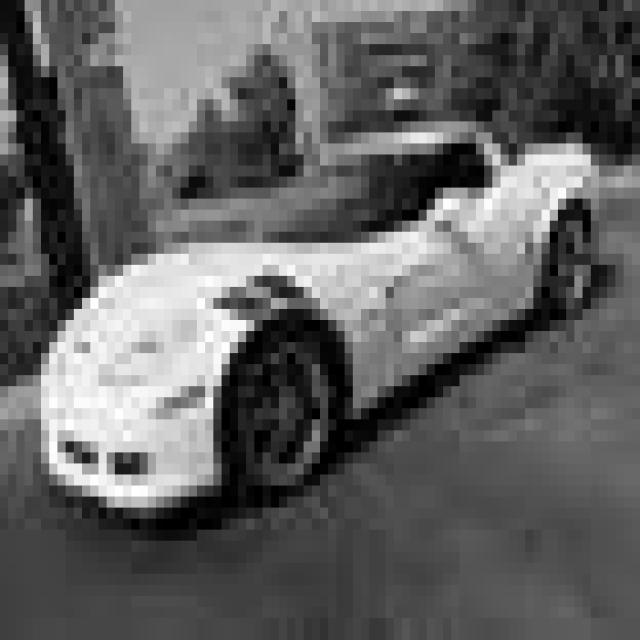car: (33, 110, 599, 519)
